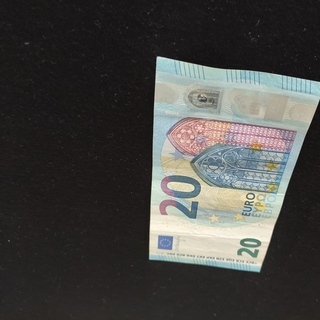20EUROFront: (147, 55, 320, 273)
